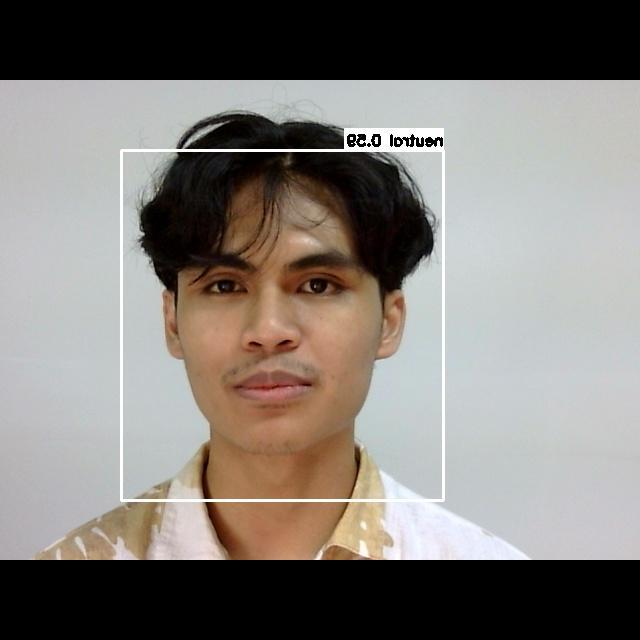Natural: (164, 219, 418, 471)
